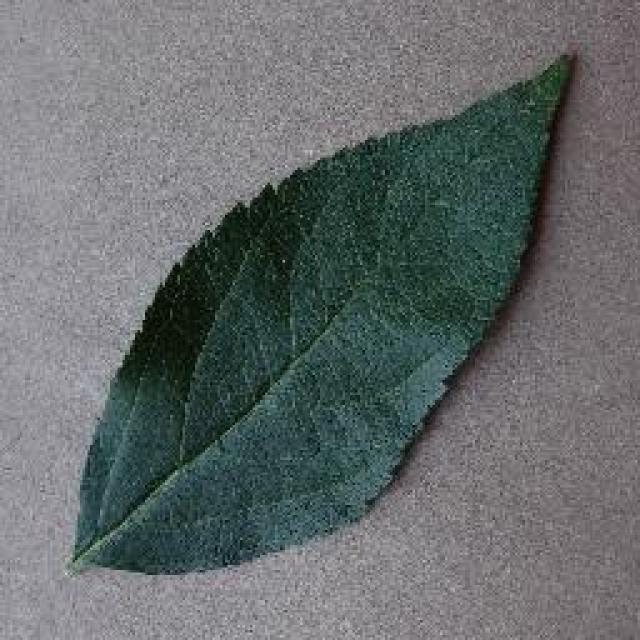apple healthy: (65, 45, 577, 577)
